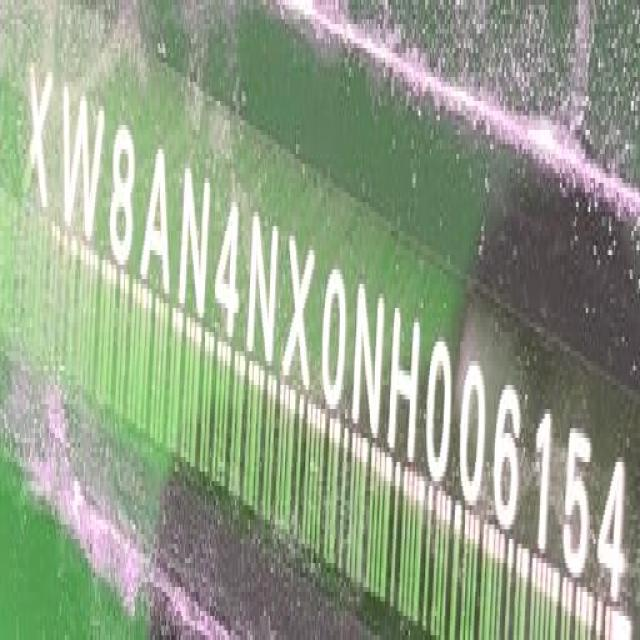0: (322, 253, 346, 419), (459, 356, 484, 512), (425, 328, 450, 483)
1: (531, 406, 554, 549)
4: (597, 444, 629, 602), (212, 182, 240, 340)
5: (564, 419, 590, 588)
6: (492, 374, 520, 533)
8: (105, 121, 136, 273)
A: (139, 139, 173, 303)
H: (388, 305, 422, 458)
N: (350, 285, 387, 437), (178, 162, 211, 323), (246, 214, 278, 360)
W: (60, 73, 106, 257)
X: (282, 221, 316, 401), (21, 48, 54, 216)
